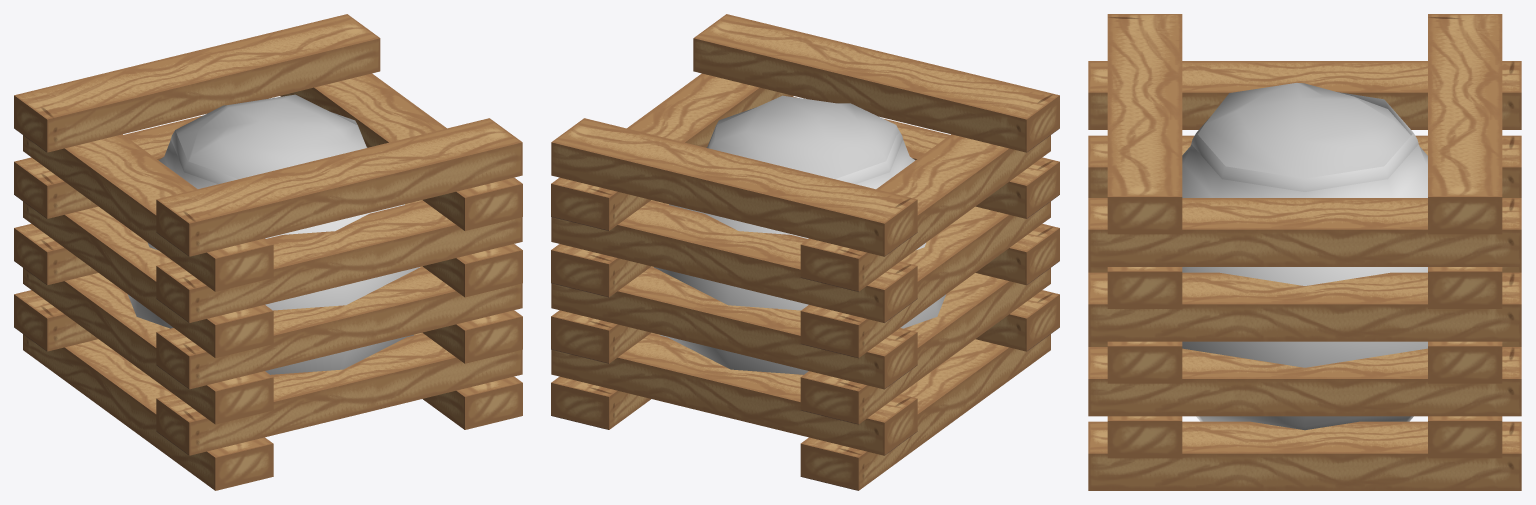
Rendered from trashbox.fbx.
3 renders of one model, left to right at view 1: azimuth 30°, elevation 25°; view 2: azimuth 150°, elevation 25°; view 3: azimuth 270°, elevation 25°, orthographic. The views are drawn at different scales.
Visible parts, largest first — view 1: Hive.016, Soil small.001, Soilbag.001, Hive.001; view 2: Hive.016, Soil small.001, Soilbag.001, Hive.001; view 3: Hive.016, Hive.001, Soilbag.001, Soil small.001.
Boxes of the visible parts, x1=… form: Hive.016: x1=14, y1=14, x2=522, y2=490; Soil small.001: x1=177, y1=94, x2=365, y2=179; Soilbag.001: x1=128, y1=105, x2=419, y2=374; Hive.001: x1=414, y1=332, x2=522, y2=429; Hive.016: x1=551, y1=14, x2=1059, y2=490; Soil small.001: x1=708, y1=95, x2=899, y2=178; Soilbag.001: x1=654, y1=107, x2=945, y2=374; Hive.001: x1=551, y1=332, x2=660, y2=429; Hive.016: x1=1088, y1=14, x2=1521, y2=458; Hive.001: x1=1088, y1=421, x2=1521, y2=490; Soilbag.001: x1=1182, y1=92, x2=1427, y2=430; Soil small.001: x1=1198, y1=83, x2=1410, y2=178.
Size of the model in its own units: 105 by 80.59 by 105.
